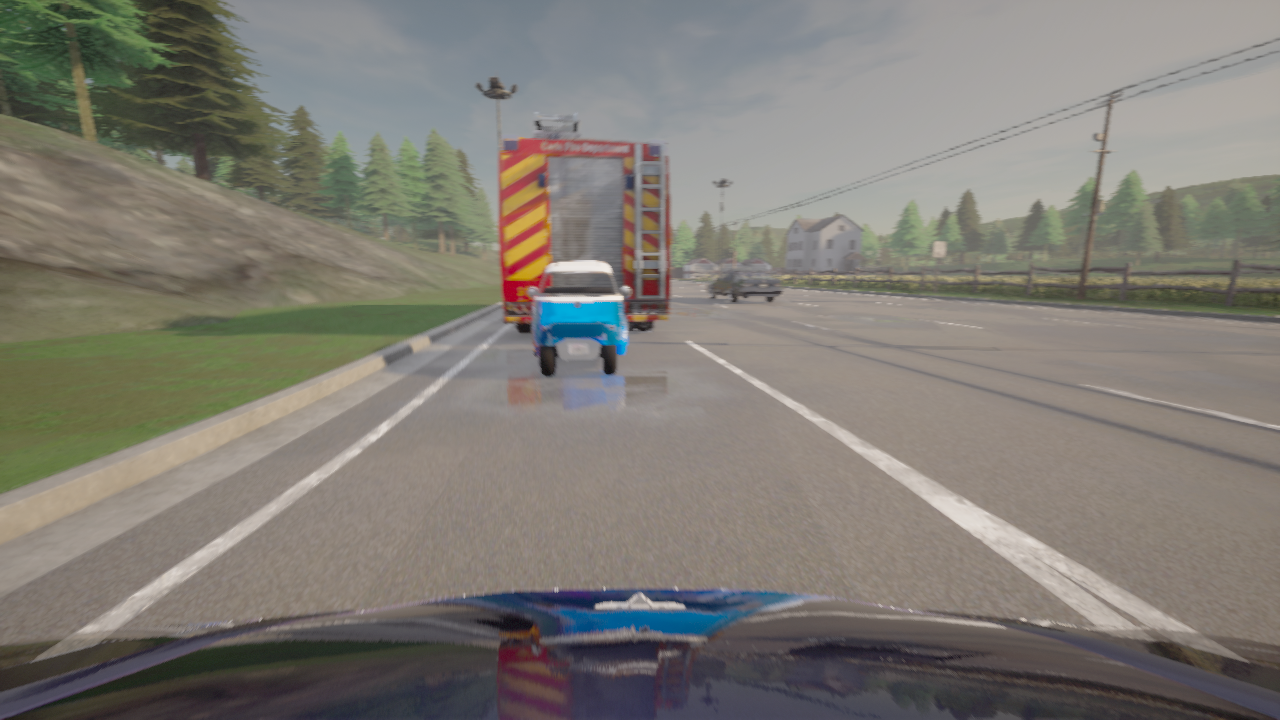cyclist: (0, 588, 1279, 719), (499, 111, 670, 333), (527, 261, 630, 376), (707, 269, 783, 302)
